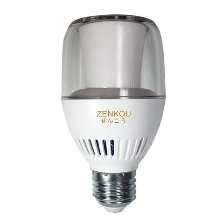light_bulb: (56, 10, 168, 215)
